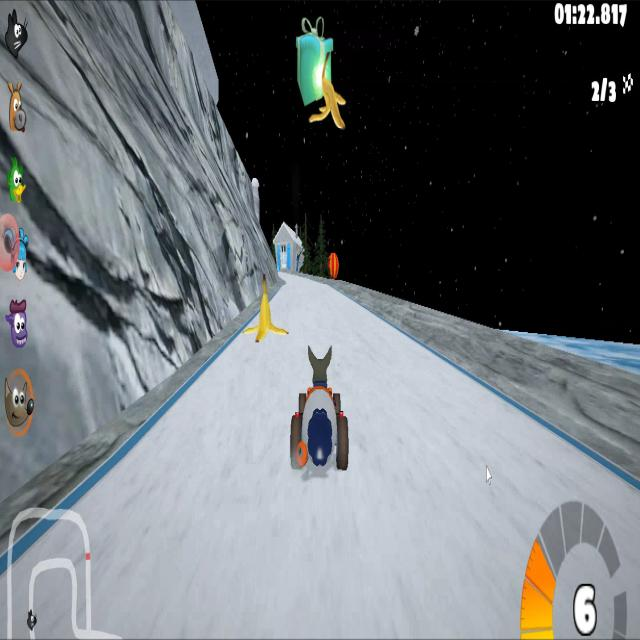player_kart: (284, 344, 351, 483)
track: (74, 491, 640, 639), (354, 354, 472, 487), (186, 352, 282, 481), (125, 394, 194, 500), (476, 399, 554, 491), (4, 566, 75, 638), (556, 428, 615, 496), (287, 283, 343, 341), (345, 298, 374, 349), (377, 319, 403, 356)
